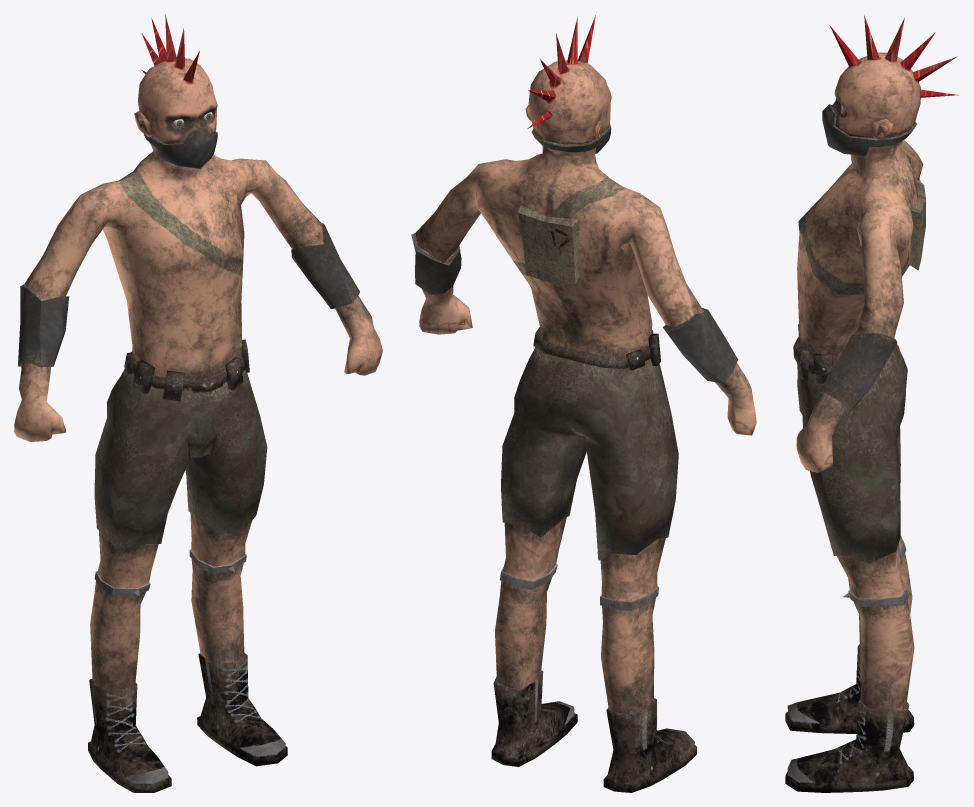
The model's file is Anim_idle_npc2.0046.obj.
The picture shows the model from 3 angles, left to right: view 1: azimuth 30°, elevation 25°; view 2: azimuth 150°, elevation 25°; view 3: azimuth 270°, elevation 25°; orthographic projection. The views are drawn at different scales.
Visible parts, largest first — view 1: polySurface1; view 2: polySurface1; view 3: polySurface1.
Boxes of the visible parts, box(x1,y1,x2,y2) form: polySurface1: box(14, 14, 382, 792); polySurface1: box(411, 15, 756, 792); polySurface1: box(785, 15, 958, 792).
Bounding box in the file's own units: 5.11 × 10.18 × 2.16.
Materials: 2 (2 with a texture image).
